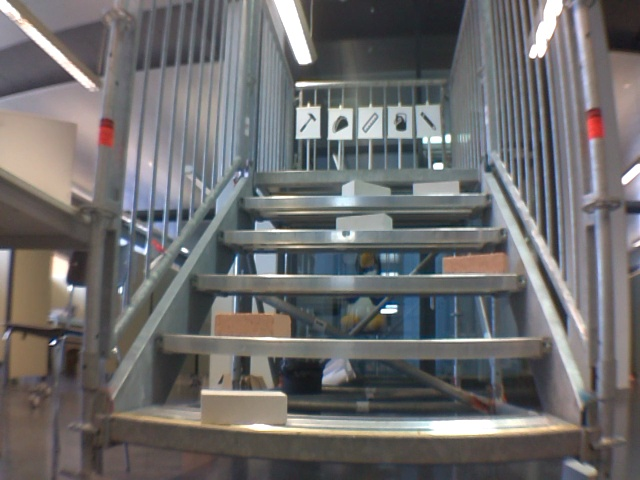brick: (199, 390, 287, 424), (218, 315, 290, 338), (443, 252, 508, 274), (336, 212, 392, 231), (340, 181, 390, 196), (413, 181, 459, 193)
bucket: (391, 111, 410, 134)
edge: (110, 416, 579, 460), (155, 334, 549, 356), (189, 275, 527, 291), (215, 227, 508, 242), (238, 194, 490, 207), (254, 169, 478, 181)
hammer: (299, 111, 318, 136)
pencil: (418, 109, 439, 134)
ruler: (360, 112, 379, 133)
stairs: (80, 2, 619, 476)
steps: (99, 166, 584, 465)
taco: (329, 112, 350, 136)
